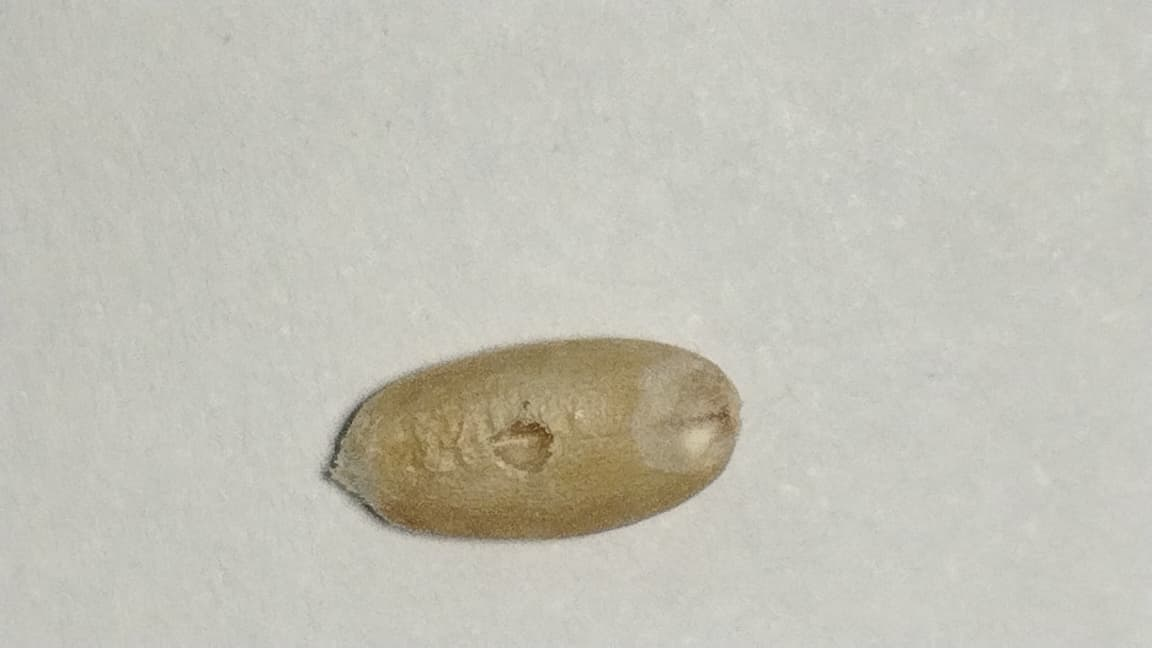damage: (333, 338, 739, 538)
insectdamage: (621, 357, 739, 486), (468, 396, 578, 486)
